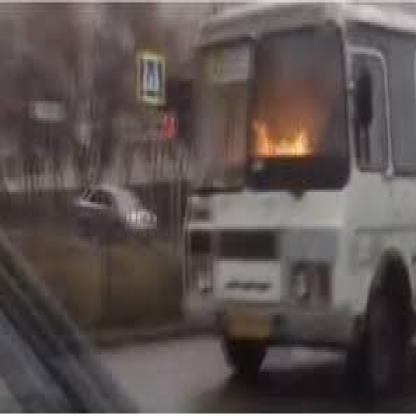fire: (240, 103, 328, 167)
smoke: (17, 18, 255, 189)
